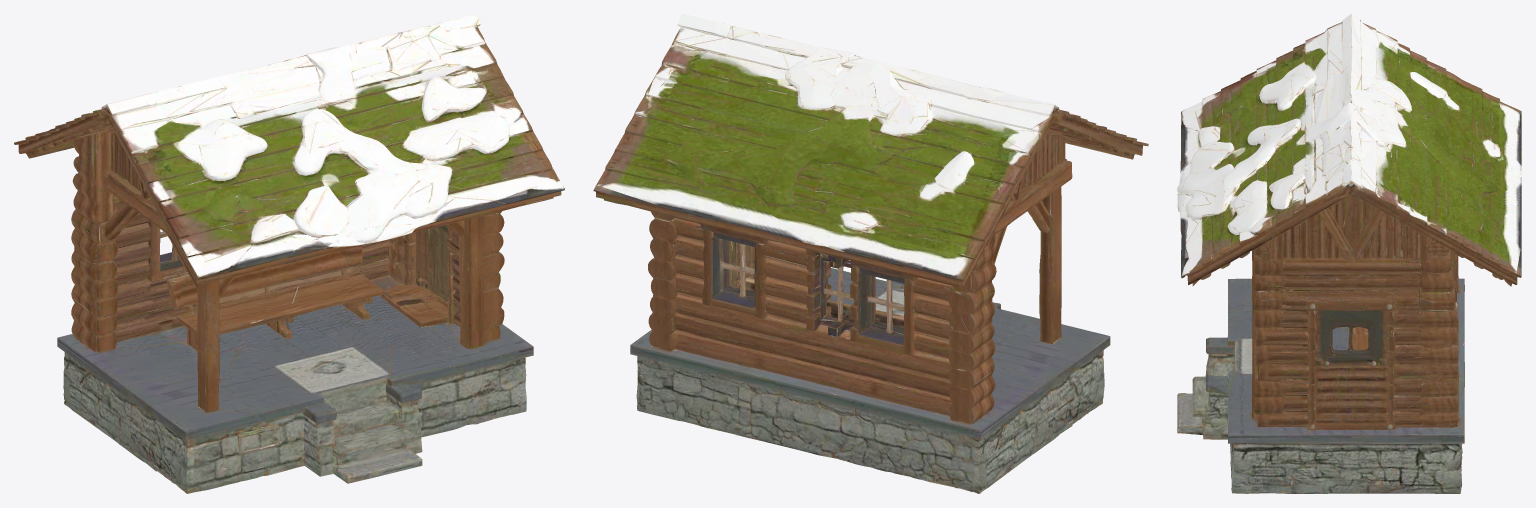
The model's file is rail_station_halt.glb.
3 views of the same model, side by side, from view 1: azimuth 30°, elevation 25°; view 2: azimuth 150°, elevation 25°; view 3: azimuth 270°, elevation 25° (orthographic). The views are drawn at different scales.
Size of the model in its own units: 1.9 by 1.7 by 1.66.
Materials: 1 (1 with a texture image).
